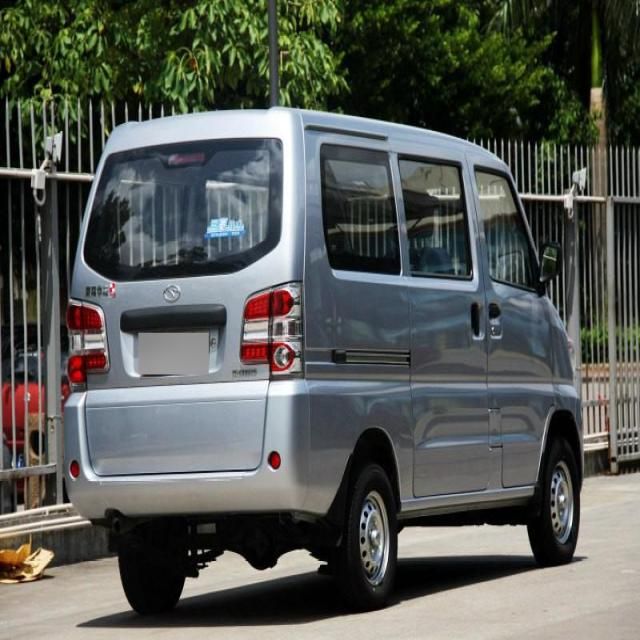back_glass: (82, 137, 284, 285)
back_left_side_light: (66, 297, 111, 394)
back_right_side_light: (240, 276, 306, 381)
door: (391, 156, 492, 500)
front_right_side_door: (462, 144, 553, 490)
front_right_side_mirror: (538, 240, 562, 289)
rear_bumper: (62, 378, 312, 512)
wheel: (337, 463, 399, 597), (528, 436, 579, 561), (116, 546, 190, 616)
